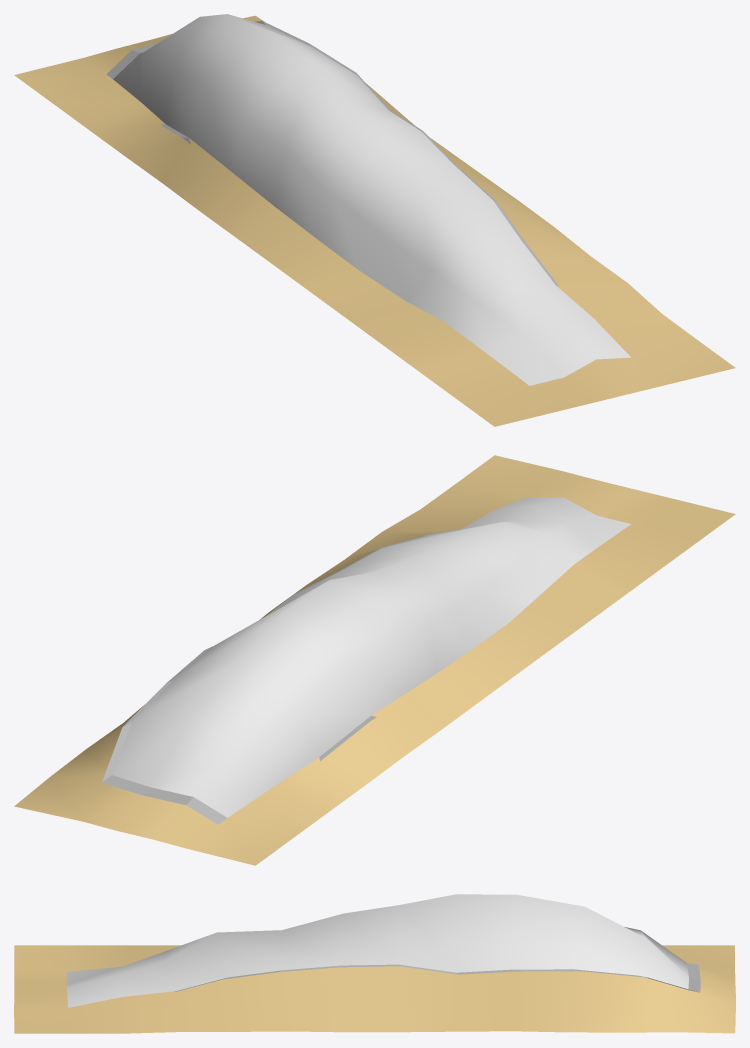
Rendered from Mountain.fbx.
3 views of the same model, one above another, from view 1: azimuth 30°, elevation 25°; view 2: azimuth 150°, elevation 25°; view 3: azimuth 270°, elevation 25° (orthographic). The views are drawn at different scales.
Parts seen in each view (by area): view 1: Mountain; view 2: Mountain; view 3: Mountain.
Part boxes in pixels (<box>): Mountain: <box>14,14,735,426</box>; Mountain: <box>14,455,735,865</box>; Mountain: <box>14,894,735,1033</box>.
Size of the model in its own units: 3.33 by 1.92 by 11.29.
